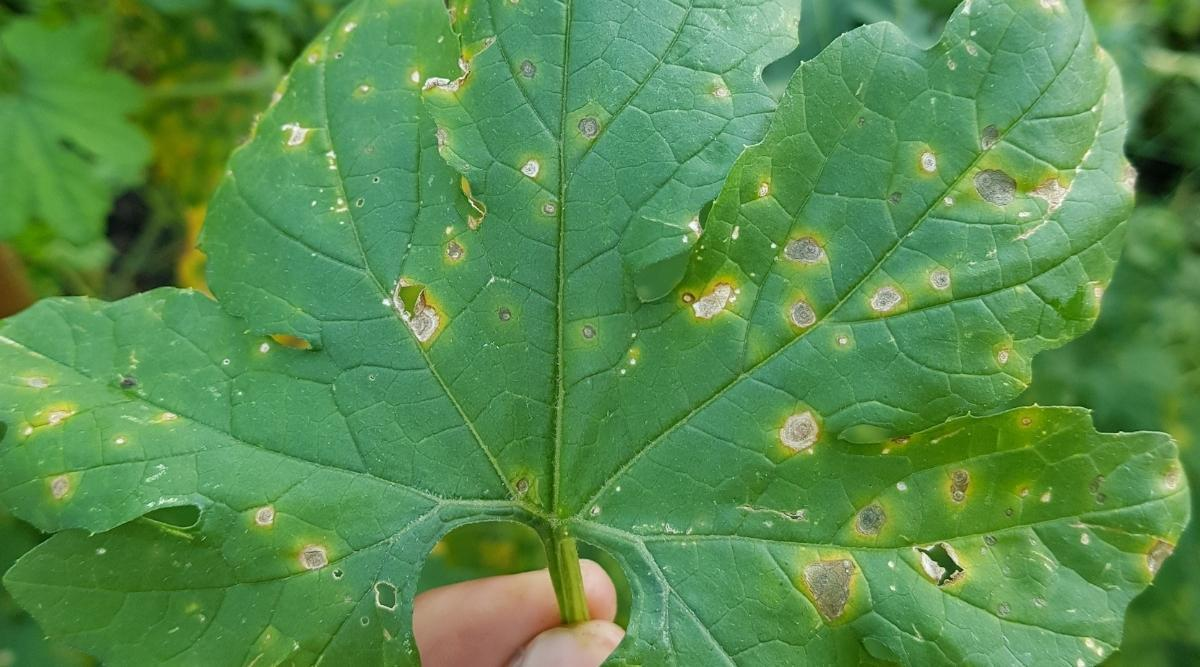black-spot: (681, 205, 947, 532)
